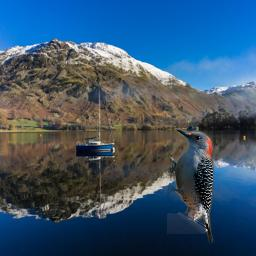Woodpecker: (167, 126, 214, 243)
